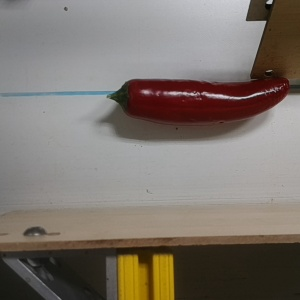Cut Point: (114, 79, 144, 119)
